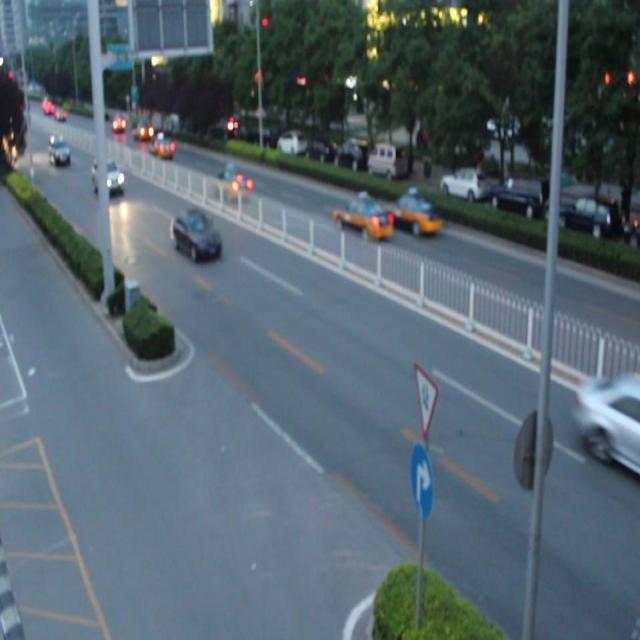car: (571, 373, 640, 473), (170, 210, 221, 264), (336, 197, 390, 239), (387, 192, 438, 235), (216, 167, 250, 200), (92, 162, 122, 192), (147, 134, 175, 158)
